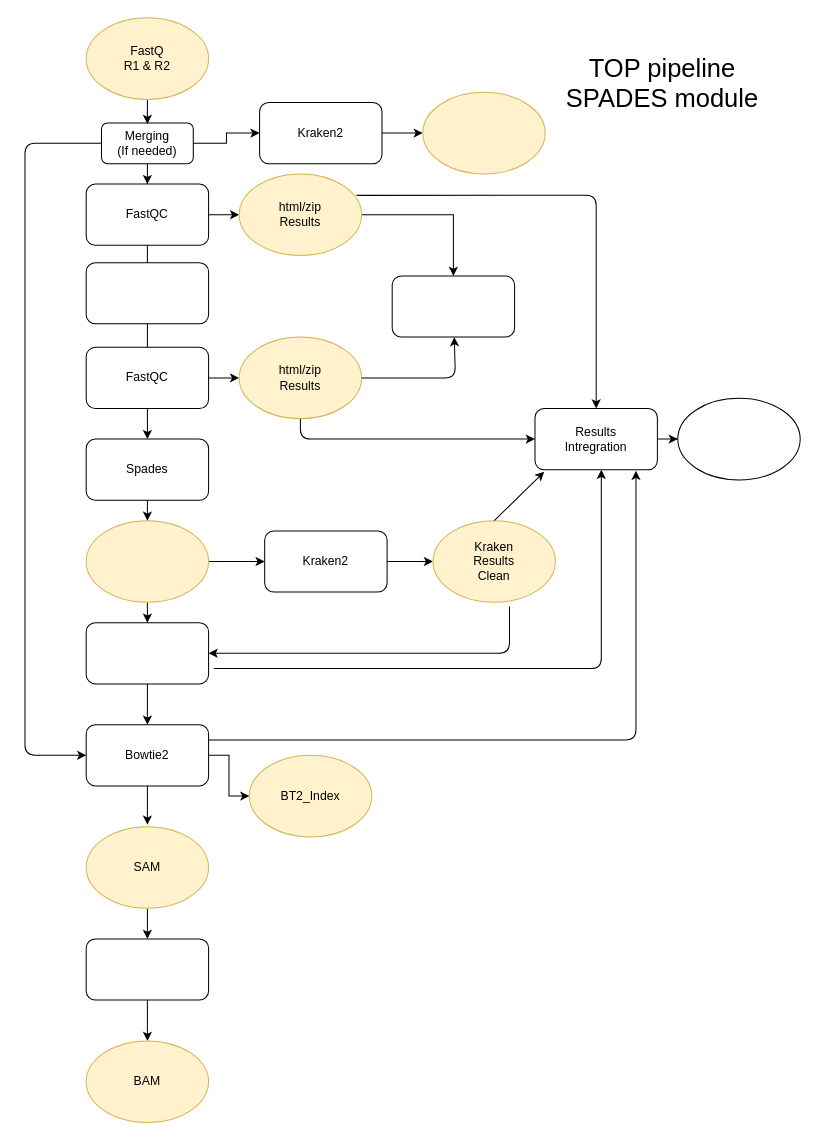
The diagram is 818 pixels wide and 1140 high, and some of its shapes have lost their labels. Each missing label, with the centre of its shape:
"Cleaning LowQ Contaminants" goes at point 147,653.
"Fasta" goes at point 147,561.
"Kraken Results Raw" goes at point 483,132.
"MultiQC" goes at point 453,306.
"Samtools" goes at point 147,969.
"Summaries CSV" goes at point 738,438.
"Trimmomatic" goes at point 147,293.
